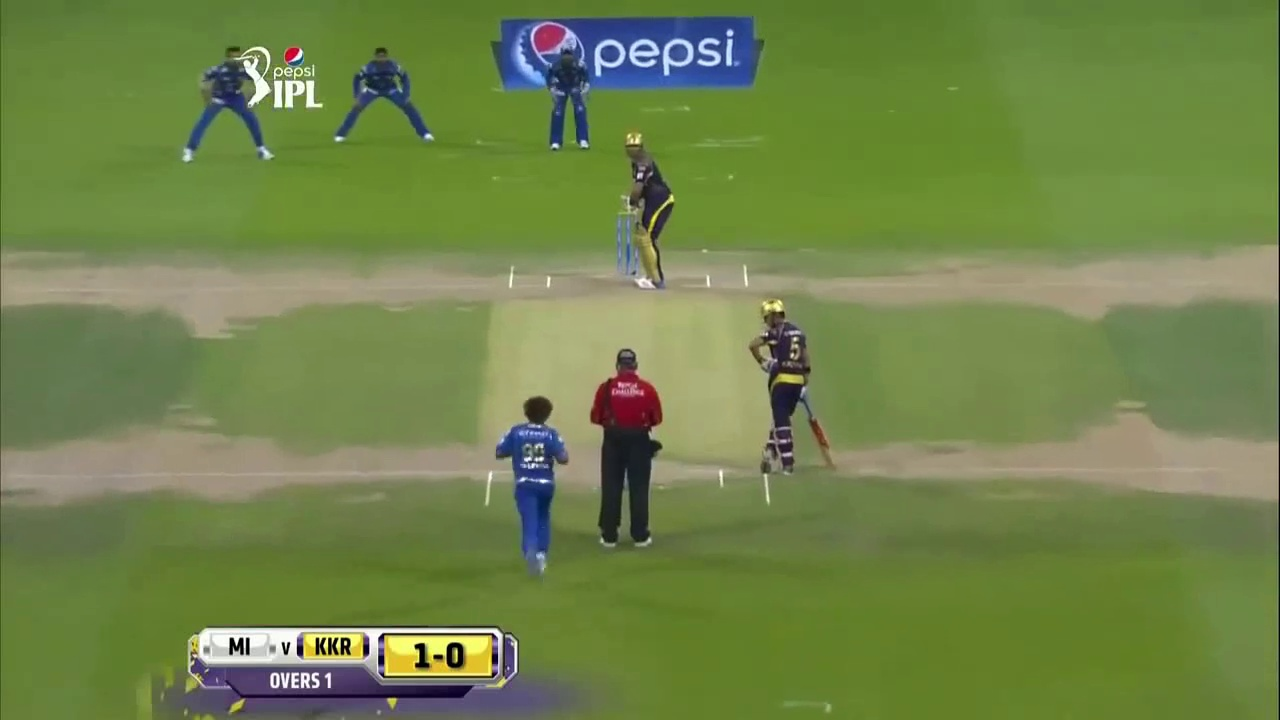bat: (799, 393, 841, 474)
pitch: (480, 255, 776, 506)
stumps: (615, 210, 631, 274)
